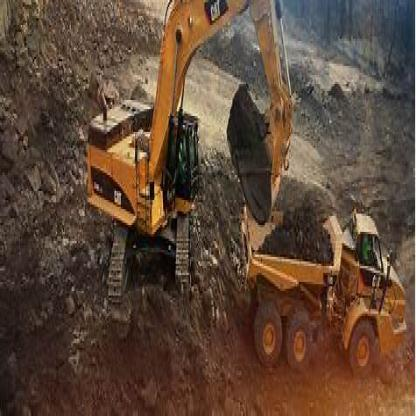dump_truck: (230, 164, 415, 407)
excavator: (77, 0, 303, 350)
